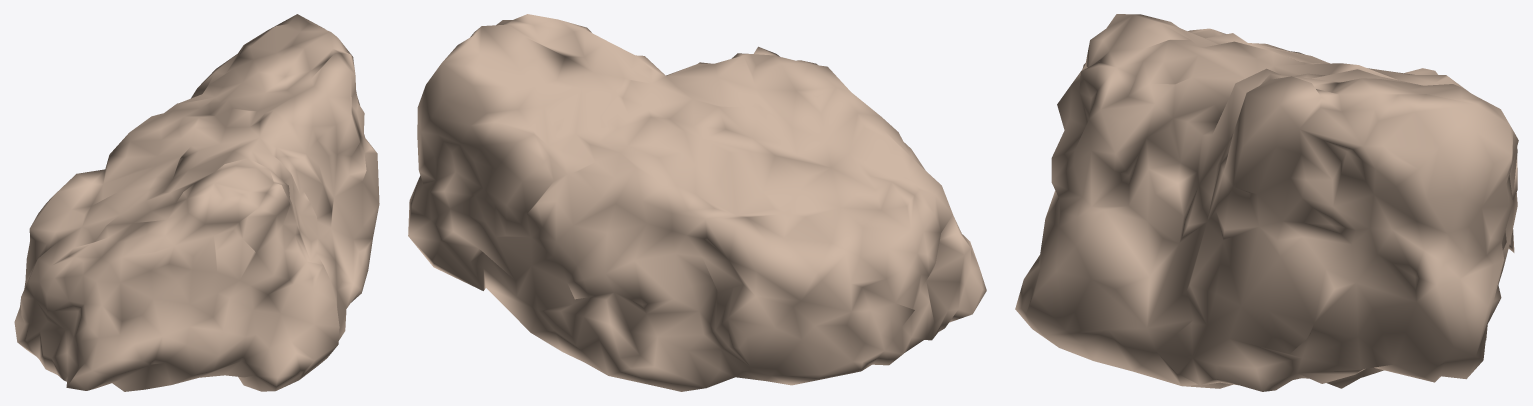
File: rk_scree_0.glb
3 views of the same model, side by side, from view 1: azimuth 30°, elevation 25°; view 2: azimuth 150°, elevation 25°; view 3: azimuth 270°, elevation 25° (orthographic). The views are drawn at different scales.
Parts seen in each view (by area): view 1: namaqualand_rocks_02_a; view 2: namaqualand_rocks_02_a; view 3: namaqualand_rocks_02_a.
Part boxes in pixels (x1=…): namaqualand_rocks_02_a: x1=14, y1=14, x2=379, y2=391; namaqualand_rocks_02_a: x1=408, y1=14, x2=986, y2=391; namaqualand_rocks_02_a: x1=1015, y1=14, x2=1518, y2=391.
Bounding box in the file's own units: 1 × 0.6196 × 0.7817.
